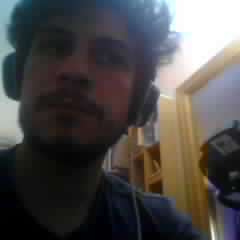without_mask: (24, 4, 136, 159)
